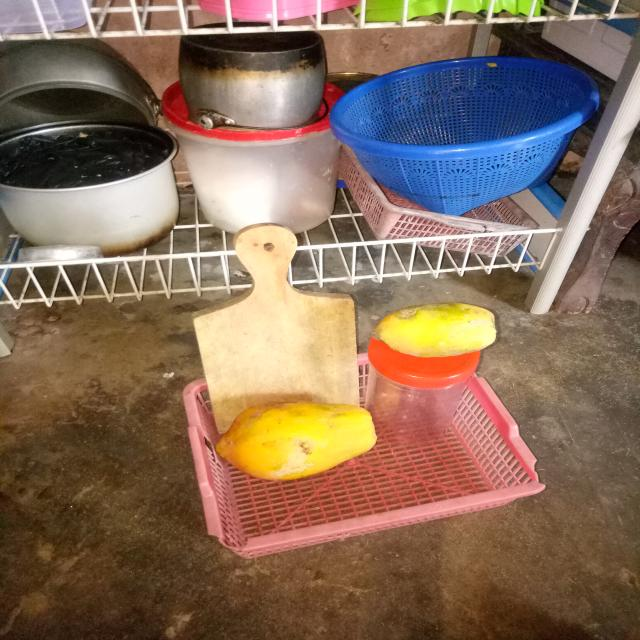Pepaya rippen: (209, 400, 385, 480), (374, 300, 500, 361)
